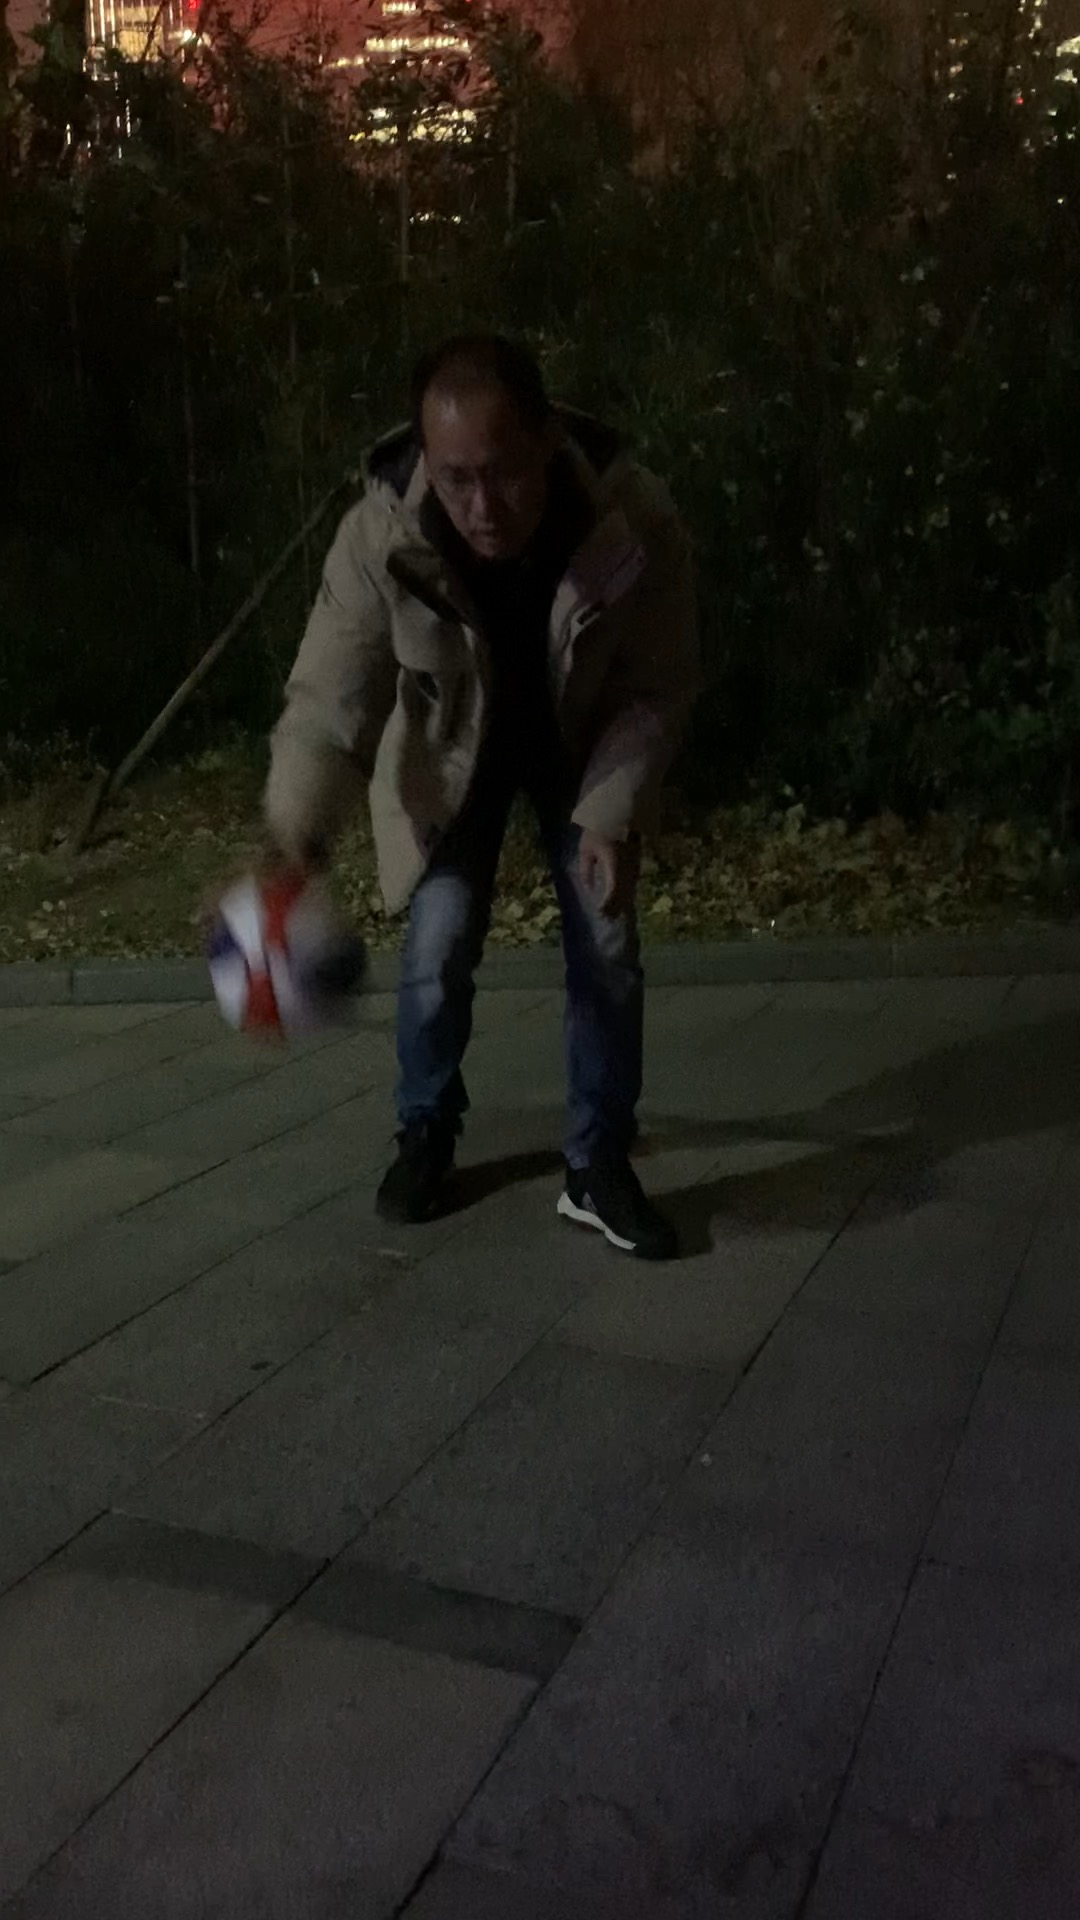ball: (200, 862, 371, 1044)
